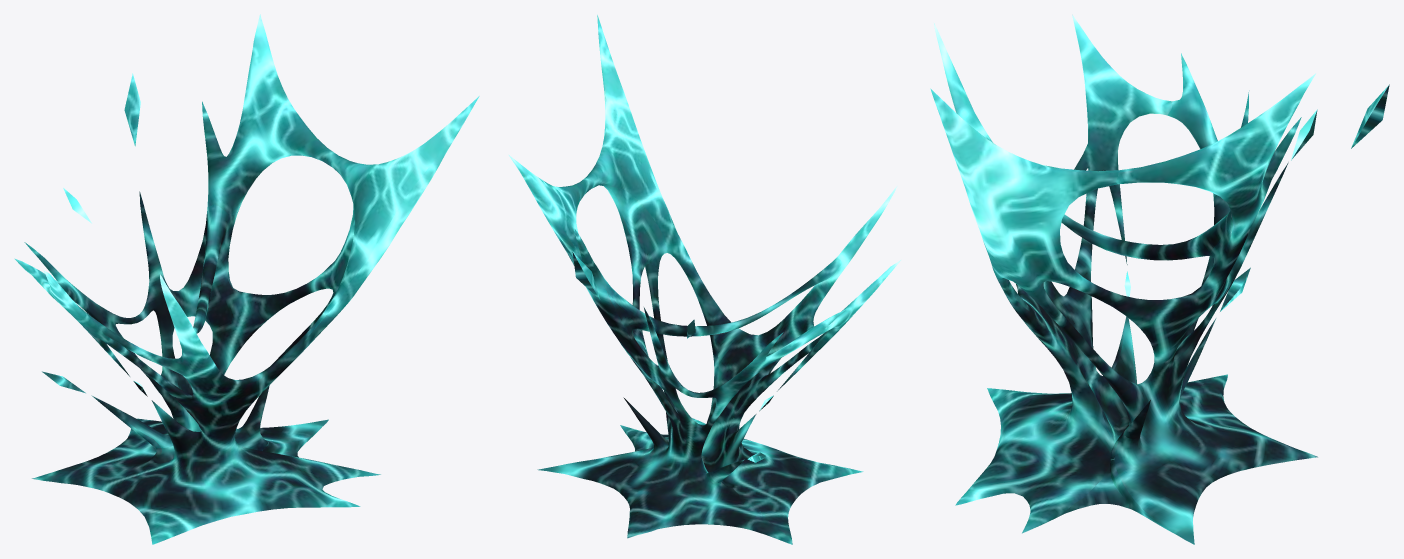
File: sky_decor_spire_soma_v35.glb
The picture shows the model from 3 angles, left to right: view 1: azimuth 30°, elevation 25°; view 2: azimuth 150°, elevation 25°; view 3: azimuth 270°, elevation 25°; orthographic projection. The views are drawn at different scales.
Parts seen in each view (by area): view 1: caos_hro_chaosconfluence_01a; view 2: caos_hro_chaosconfluence_01a; view 3: caos_hro_chaosconfluence_01a.
Part boxes in pixels (box(x1,y1,x2,y2)): caos_hro_chaosconfluence_01a: box(14, 14, 479, 544); caos_hro_chaosconfluence_01a: box(509, 15, 900, 544); caos_hro_chaosconfluence_01a: box(930, 14, 1389, 544).
Bounding box in the file's own units: 25.11 × 24.85 × 21.42.
1 material, 1 textured.
